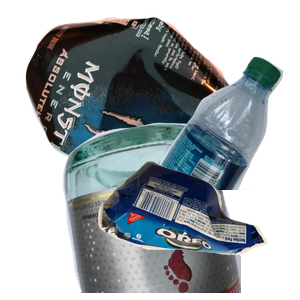glass: (60, 120, 300, 300)
metal: (23, 15, 263, 195)
plastic: (142, 54, 300, 234)
trash: (95, 158, 300, 300)
